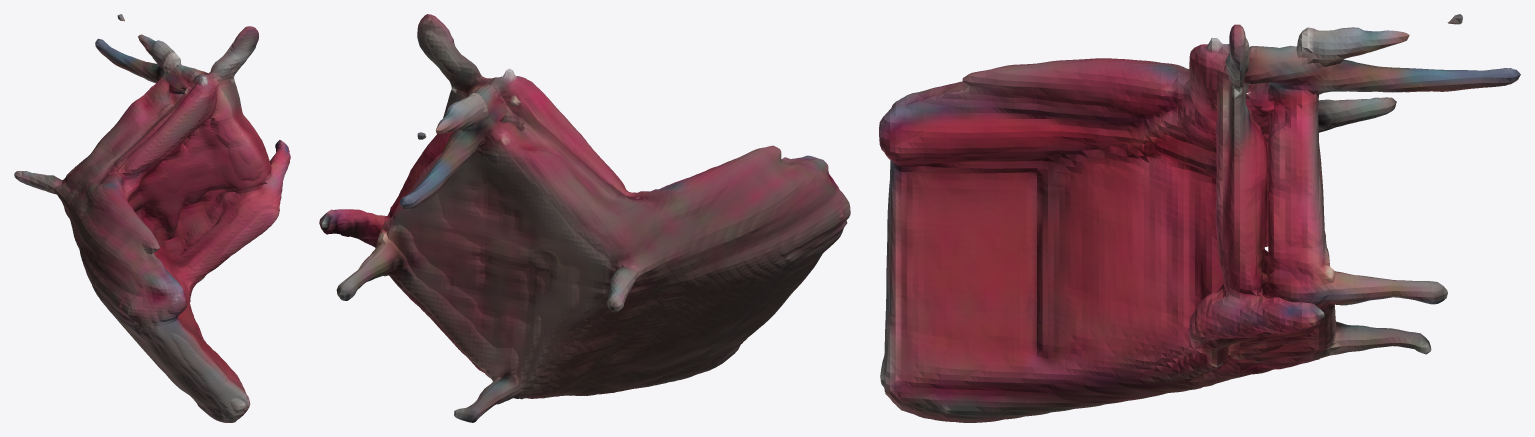
The picture shows the model from 3 angles, left to right: view 1: azimuth 30°, elevation 25°; view 2: azimuth 150°, elevation 25°; view 3: azimuth 270°, elevation 25°; orthographic projection. The views are drawn at different scales.
Visible parts, largest first — view 1: world; view 2: world; view 3: world.
Boxes of the visible parts, x1,y1,x2,y2 form: world: (14,14,290,422); world: (319,14,850,422); world: (879,14,1520,422).
Bounding box in the file's own units: 0.6345 × 0.6501 × 0.776.
